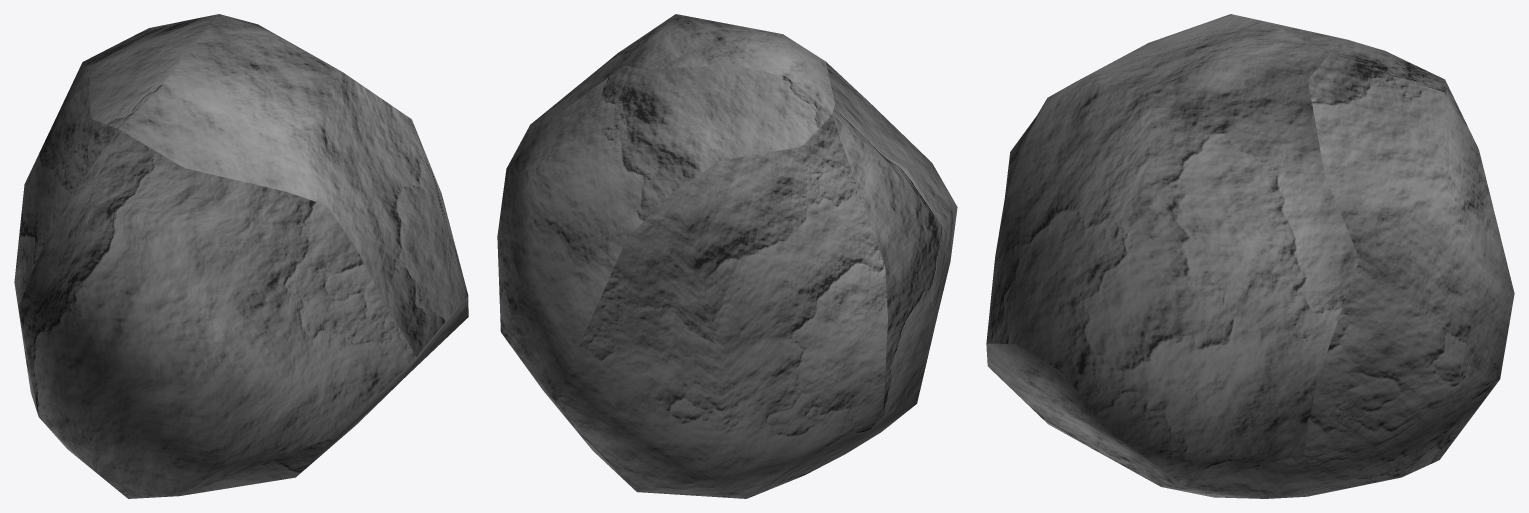
The model's file is rock01.obj.
3 views of the same model, side by side, from view 1: azimuth 30°, elevation 25°; view 2: azimuth 150°, elevation 25°; view 3: azimuth 270°, elevation 25° (orthographic). The views are drawn at different scales.
Parts seen in each view (by area): view 1: rock_01; view 2: rock_01; view 3: rock_01.
Boxes of the visible parts, x1,y1,x2,y2 form: rock_01: (14,14,468,498); rock_01: (497,14,957,498); rock_01: (986,14,1514,498).
Bounding box in the file's own units: 5.46 × 5.51 × 5.81.
Materials: 1 (1 with a texture image).
